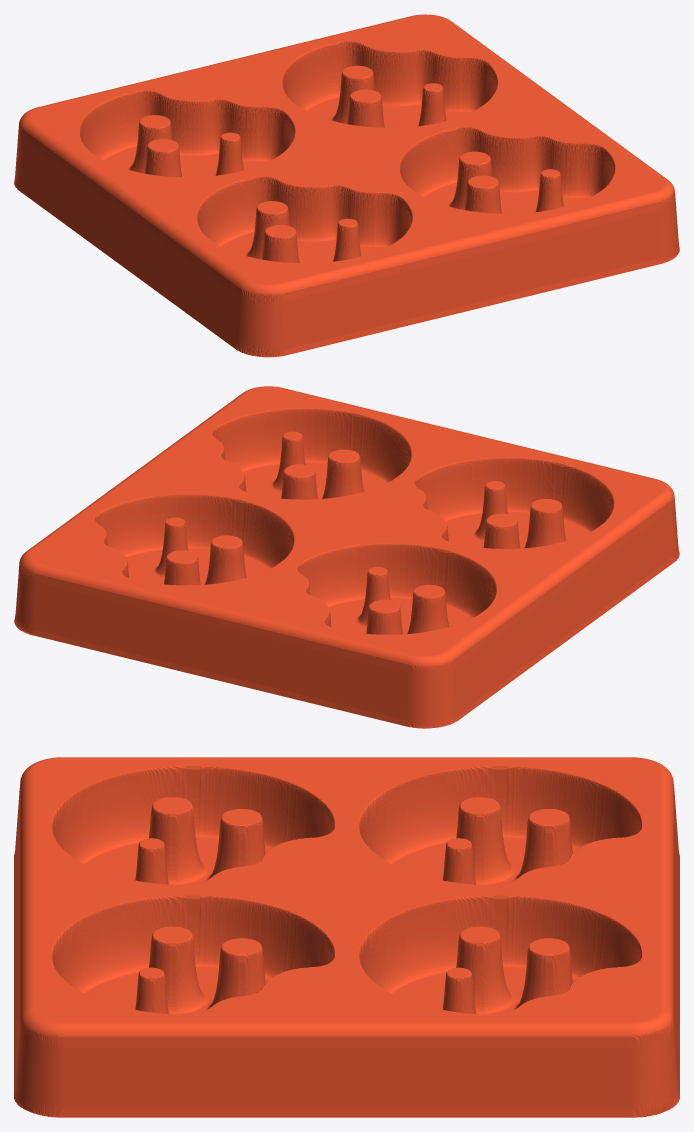
Rendered from mold.glb.
3 views of the same model, one above another, from view 1: azimuth 30°, elevation 25°; view 2: azimuth 150°, elevation 25°; view 3: azimuth 270°, elevation 25° (orthographic). The views are drawn at different scales.
Visible parts, largest first — view 1: geometry_0; view 2: geometry_0; view 3: geometry_0.
Part boxes in pixels (x1,y1,x2,y2): geometry_0: (14, 14, 679, 357); geometry_0: (14, 386, 679, 728); geometry_0: (14, 757, 679, 1117).
Bounding box in the file's own units: 0.1207 × 0.0175 × 0.1211.
